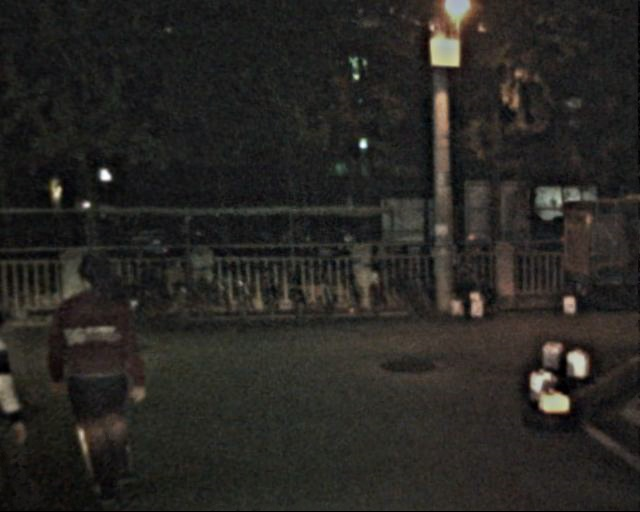person: (56, 244, 158, 497), (1, 293, 29, 503)
